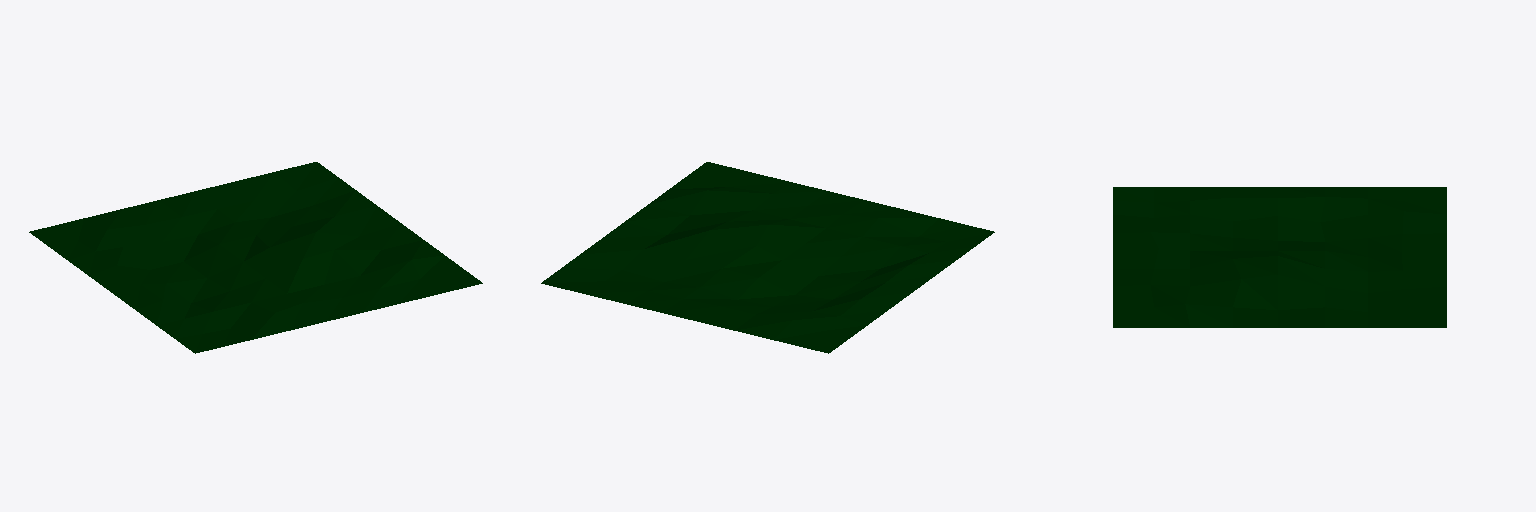
The model's file is Ground.obj.
3 views of the same model, side by side, from view 1: azimuth 30°, elevation 25°; view 2: azimuth 150°, elevation 25°; view 3: azimuth 270°, elevation 25° (orthographic).
Visible parts, largest first — view 1: Plane; view 2: Plane; view 3: Plane.
Boxes of the visible parts, <box> form: Plane: <box>29,162,482,353</box>; Plane: <box>541,162,994,353</box>; Plane: <box>1113,187,1446,327</box>.
Size of the model in its own units: 2 by 0.1366 by 2.